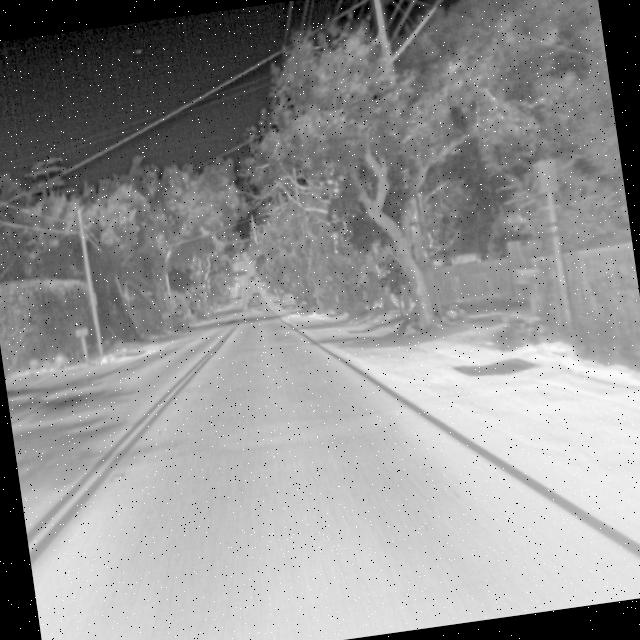Vehicle: (279, 292, 297, 311), (246, 296, 264, 314)
